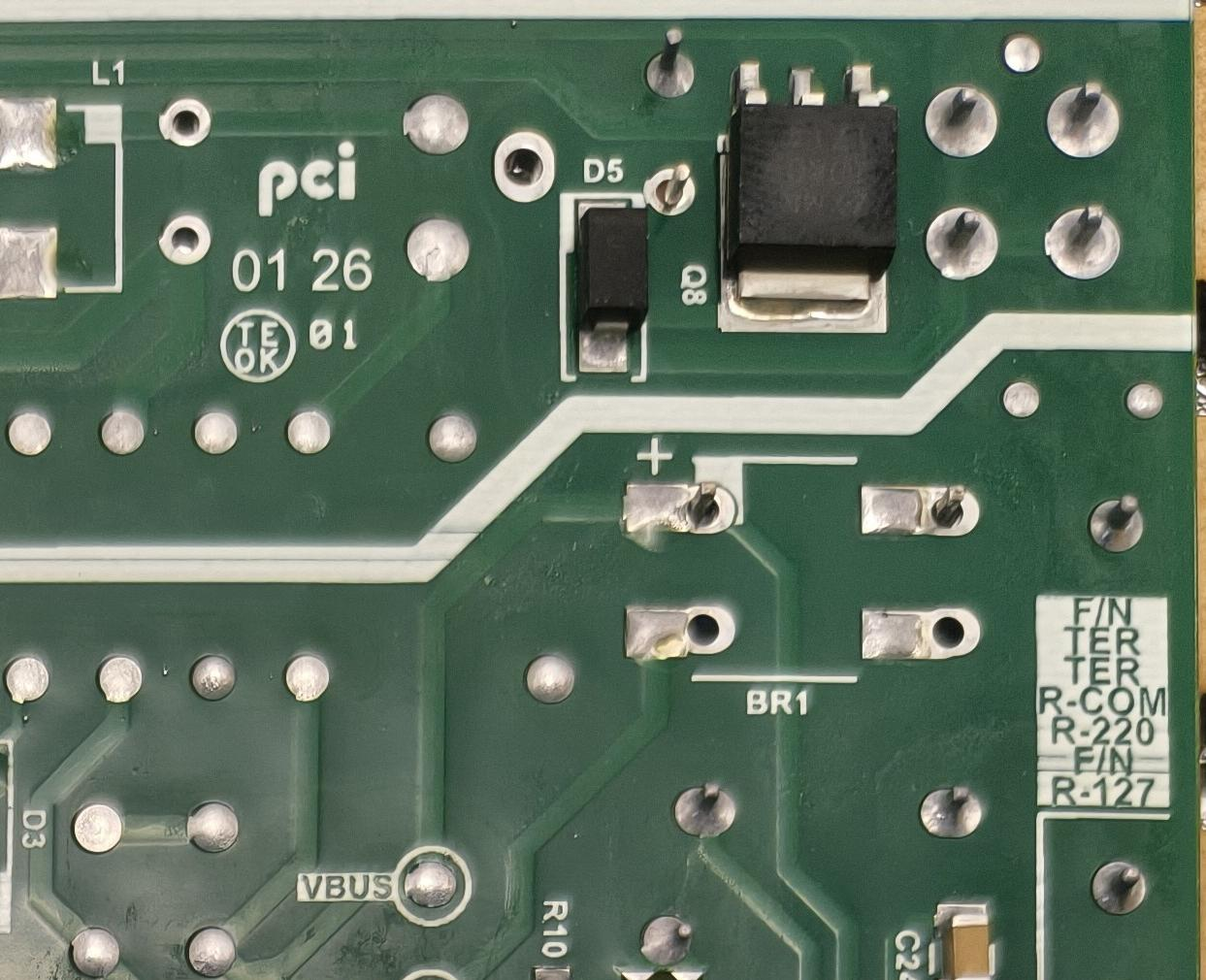Soldagem+: (1032, 193, 1131, 282), (910, 208, 1016, 288), (1050, 67, 1127, 173), (1071, 846, 1173, 924), (916, 71, 1001, 157), (665, 774, 761, 839), (1072, 485, 1150, 563), (917, 775, 996, 850), (626, 35, 706, 107), (623, 905, 705, 961)
SoldagemFaltando: (849, 458, 984, 562), (602, 458, 741, 540), (641, 157, 698, 227)
